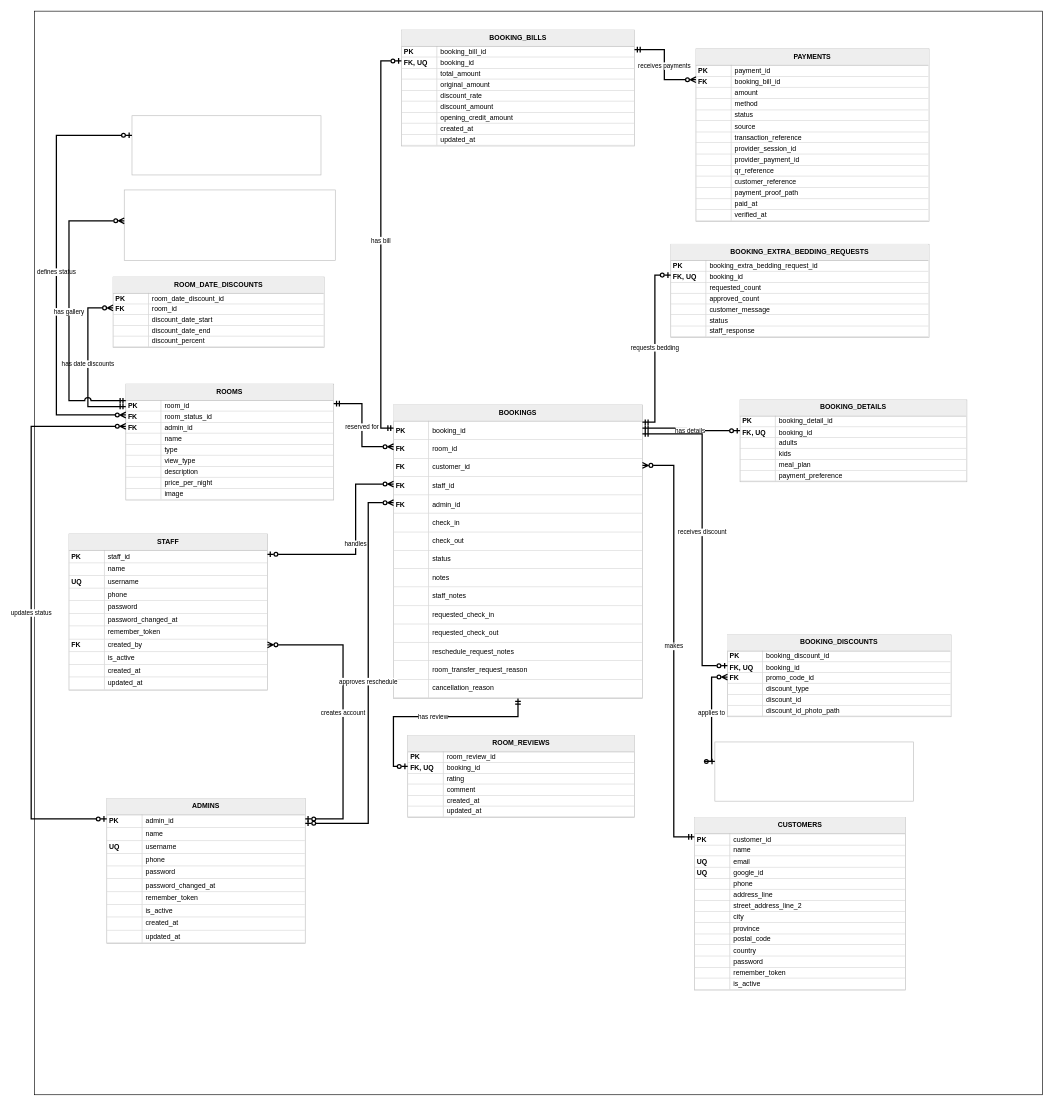
Image size: 1054x1106. Some labels were removed from this diagram. The shapes that lost their labels are listed below. From the top down, each one's centre as x and y in pixels, then its label:
At [226,145]: "ROOM_STATUS PK room_status_id UQ name UQ slug description".
At [229,225]: "ROOM_IMAGES PK room_image_id FK room_id path caption sort_order".
At [813,771]: "PROMO_CODES PK promo_code_id UQ code discount_percent is_active".
